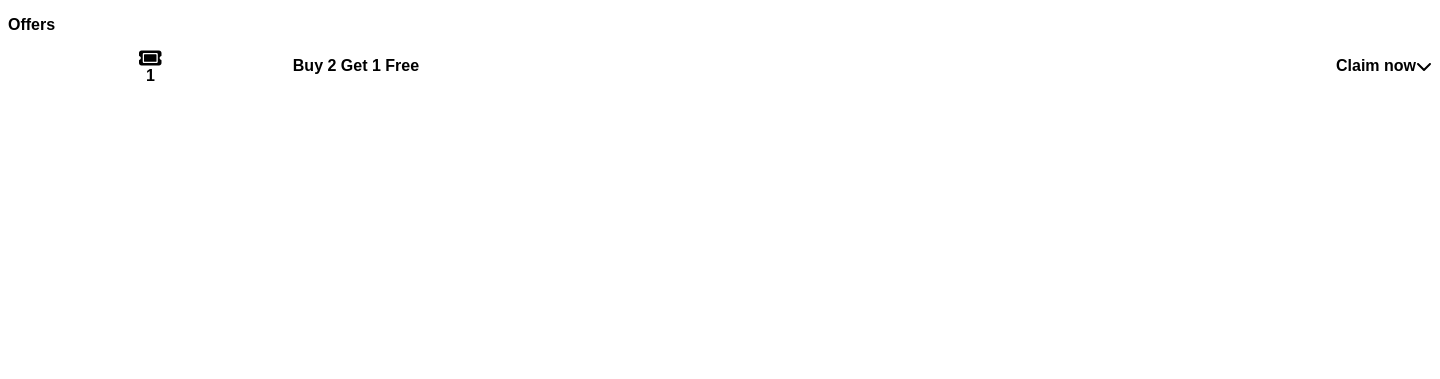
Test: store page offers › prints the deal, its products, conditions, code, end and terms
Click the button "1 Buy 2 Get 1 Free Claim now". click: coordinates (356, 65)
box: top-left (8, 48), bottom-right (1432, 84)
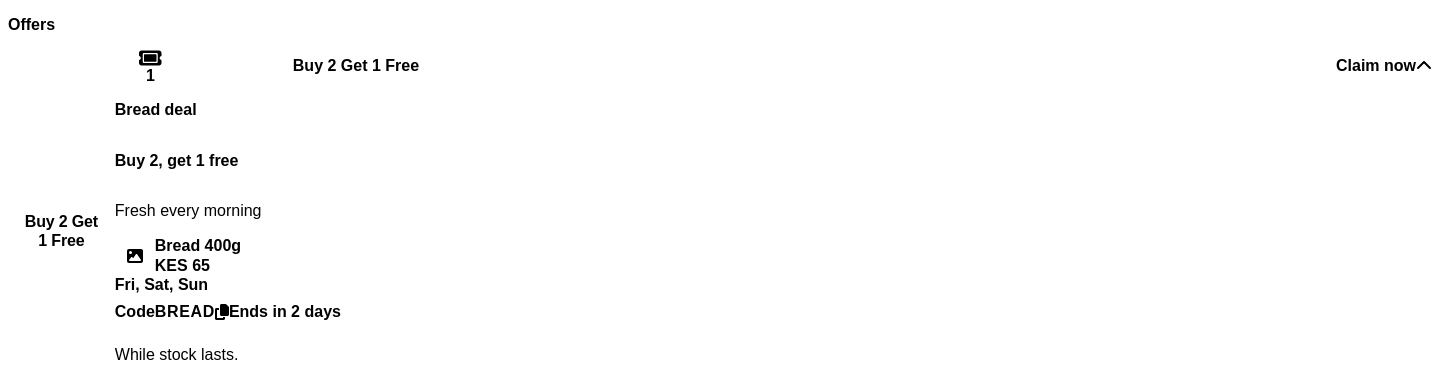
Now the heading "Bread deal" is shown, box top-left (115, 100), bottom-right (197, 118)
Now the text "Buy 2, get 1 free" is shown, box top-left (114, 150), bottom-right (244, 168)
Now the text "Bread 400g" is shown, box top-left (155, 236), bottom-right (241, 256)
